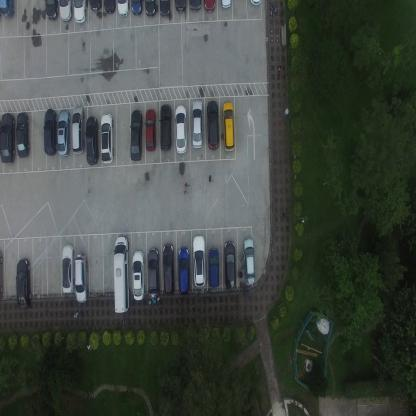car: (113, 234, 130, 314), (15, 256, 32, 312), (0, 111, 15, 165), (221, 101, 236, 154), (192, 233, 206, 288), (71, 104, 86, 155), (129, 108, 143, 162), (15, 111, 31, 158), (100, 112, 114, 165), (43, 107, 58, 156), (56, 109, 71, 158), (206, 99, 220, 151), (162, 241, 175, 297), (74, 252, 88, 304), (61, 242, 75, 294), (242, 236, 256, 287), (174, 104, 188, 154), (132, 249, 145, 302), (177, 245, 190, 297), (86, 115, 99, 166), (191, 97, 203, 150), (147, 246, 159, 299), (224, 240, 236, 292), (160, 102, 172, 152), (144, 108, 157, 152), (207, 247, 219, 290), (72, 0, 87, 25), (58, 0, 73, 23), (44, 0, 59, 22), (0, 0, 16, 19), (0, 247, 5, 298), (117, 0, 129, 19), (158, 0, 172, 16), (145, 0, 156, 20), (202, 0, 217, 14), (102, 0, 116, 15), (88, 0, 102, 14), (174, 0, 187, 14), (130, 0, 142, 15), (189, 0, 202, 12), (248, 0, 262, 8), (220, 0, 232, 9)
